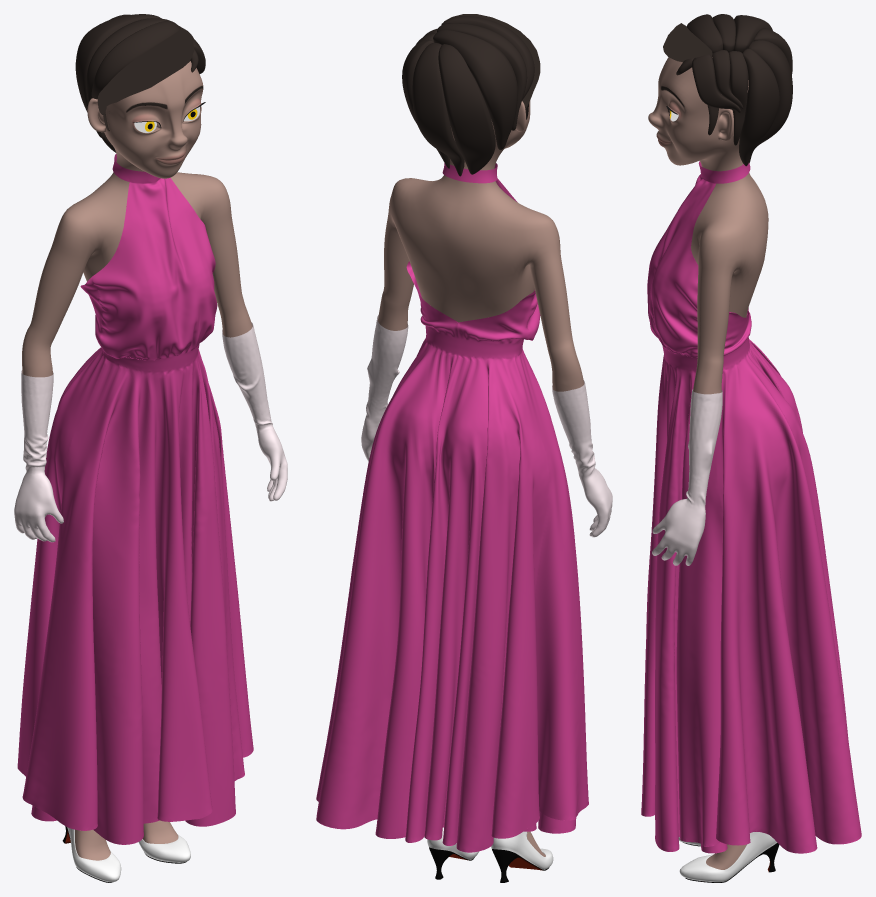
File: ladra_dress.gltf
The picture shows the model from 3 angles, left to right: view 1: azimuth 30°, elevation 25°; view 2: azimuth 150°, elevation 25°; view 3: azimuth 270°, elevation 25°; orthographic projection.
Visible parts, largest first — view 1: vestito_parent, Body, gloves_diff_parent, ciocca_dx_1.002, ciocca_dx_2.002, ciocca_dx_4.002, ciocca_dx_3.002, Heel_L, Heel_R; view 2: vestito_parent, Body, gloves_diff_parent, ciocca_b_3.002, ciocca_dx_4.002, cioccab_2.002, Heel_L, ciocca_dx_3.002, ciocca_dx_2.002, ciocca_b_1.003, Heel_R, ciocca_dx_1.002; view 3: vestito_parent, Body, gloves_diff_parent, ciocca_b_1.003, Heel_R, cioccab_2.002, ciocca_sx_1.002, ciocca_sx_3.002, ciocca_dx_1.002, ciocca_dx_4.002, ciocca_dx_2.002, ciocca_sx_2.002 (+2 smaller).
Boxes of the visible parts, x1,y1,x2,y2 form: vestito_parent: (17, 154, 253, 844); Body: (22, 61, 252, 860); gloves_diff_parent: (14, 322, 287, 542); ciocca_dx_1.002: (97, 29, 194, 114); ciocca_dx_2.002: (91, 20, 180, 99); ciocca_dx_4.002: (75, 14, 161, 138); ciocca_dx_3.002: (86, 18, 169, 102); Heel_L: (62, 826, 121, 882); Heel_R: (138, 834, 190, 863); vestito_parent: (316, 163, 588, 852); Body: (377, 100, 584, 856); gloves_diff_parent: (361, 315, 612, 537); ciocca_b_3.002: (438, 44, 495, 174); ciocca_dx_4.002: (433, 30, 517, 149); cioccab_2.002: (412, 43, 464, 176); Heel_L: (491, 831, 553, 882); ciocca_dx_3.002: (437, 23, 527, 130); ciocca_dx_2.002: (441, 16, 534, 99); ciocca_b_1.003: (402, 39, 449, 168); Heel_R: (427, 827, 478, 879); ciocca_dx_1.002: (444, 14, 540, 108); vestito_parent: (641, 161, 861, 853); Body: (648, 57, 768, 869); gloves_diff_parent: (652, 389, 722, 565); ciocca_b_1.003: (739, 48, 779, 166); Heel_R: (679, 832, 779, 882); cioccab_2.002: (748, 40, 792, 163); ciocca_sx_1.002: (692, 54, 740, 112); ciocca_sx_3.002: (729, 51, 748, 145); ciocca_dx_1.002: (663, 23, 712, 62); ciocca_dx_4.002: (733, 15, 772, 52); ciocca_dx_2.002: (686, 14, 722, 53); ciocca_sx_2.002: (712, 50, 743, 108).
Size of the model in its own units: 0.5327 by 1.66 by 0.3929.
11 materials, 1 textured.
